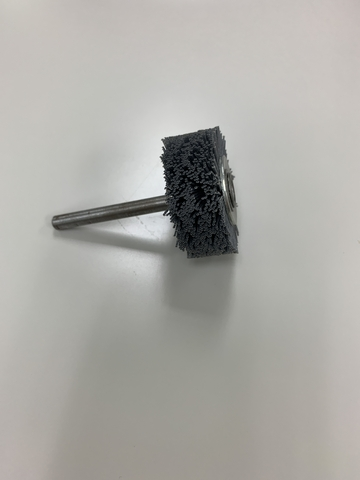Wheel Brush: (40, 129, 256, 262), (41, 146, 254, 267), (147, 121, 256, 264)
